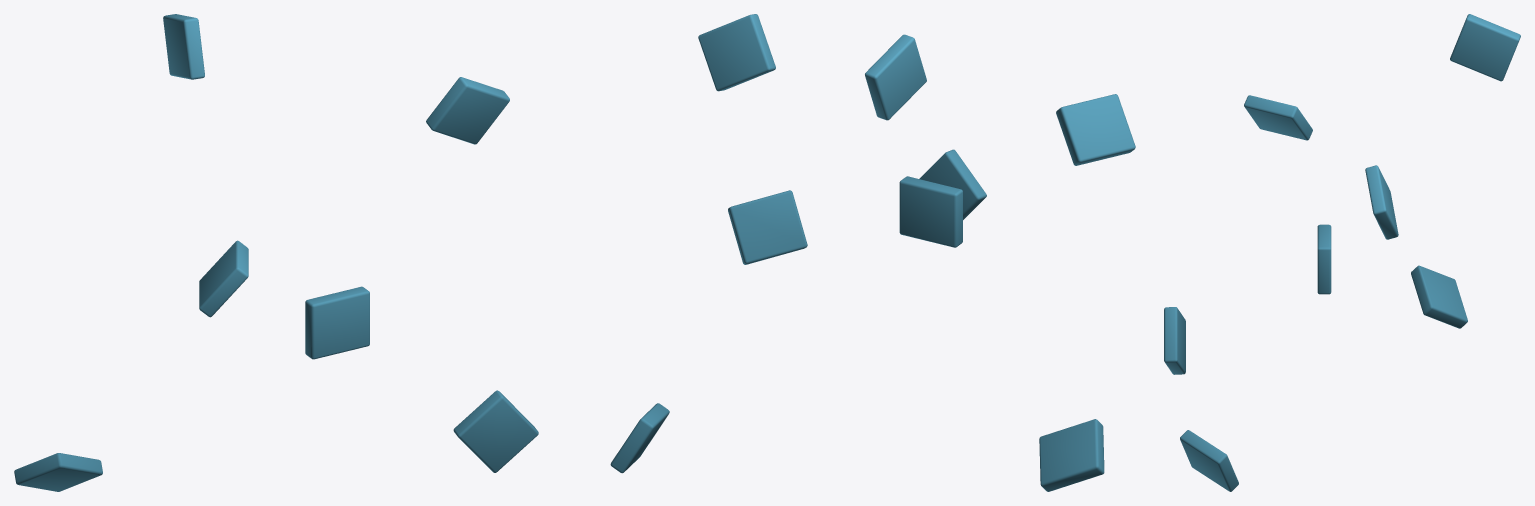
Rendered from glass-impact-particles.obj.
3 views of the same model, side by side, from view 1: azimuth 30°, elevation 25°; view 2: azimuth 150°, elevation 25°; view 3: azimuth 270°, elevation 25° (orthographic). The views are drawn at different scales.
Visible parts, largest first — view 1: glass-impact-particles; view 2: glass-impact-particles; view 3: glass-impact-particles.
Part boxes in pixels (left/top/right/bottom): glass-impact-particles: left=14, top=14, right=669, bottom=491; glass-impact-particles: left=698, top=14, right=1135, bottom=491; glass-impact-particles: left=1164, top=14, right=1520, bottom=491.
Bounding box in the file's own units: 0.4416 × 0.3544 × 0.3103.
